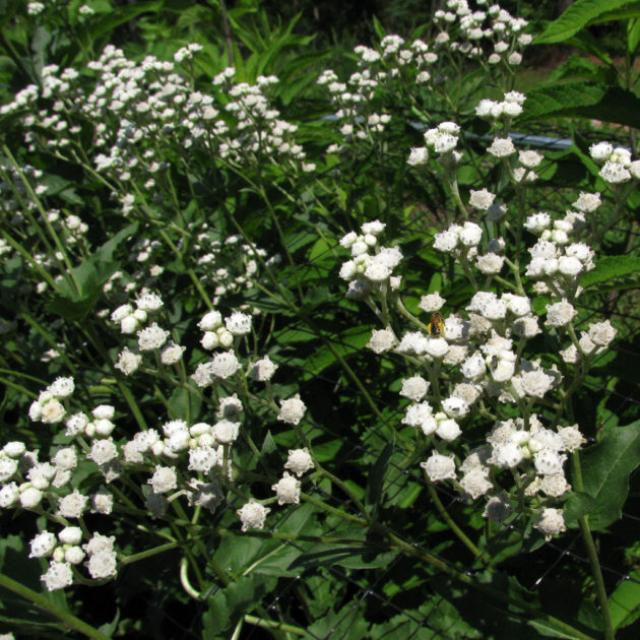Poisonous-Parthenium: (0, 292, 334, 628), (342, 210, 640, 541), (21, 45, 339, 297), (352, 2, 640, 212)
